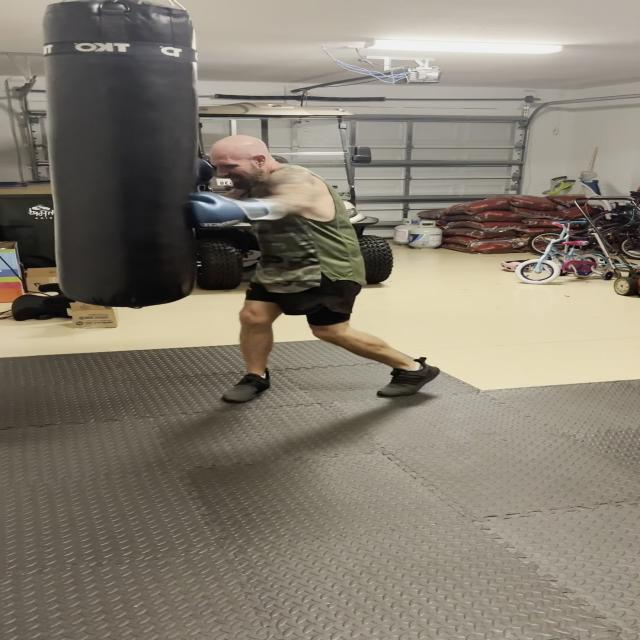bag: (41, 0, 201, 306)
hook: (146, 119, 386, 255)
